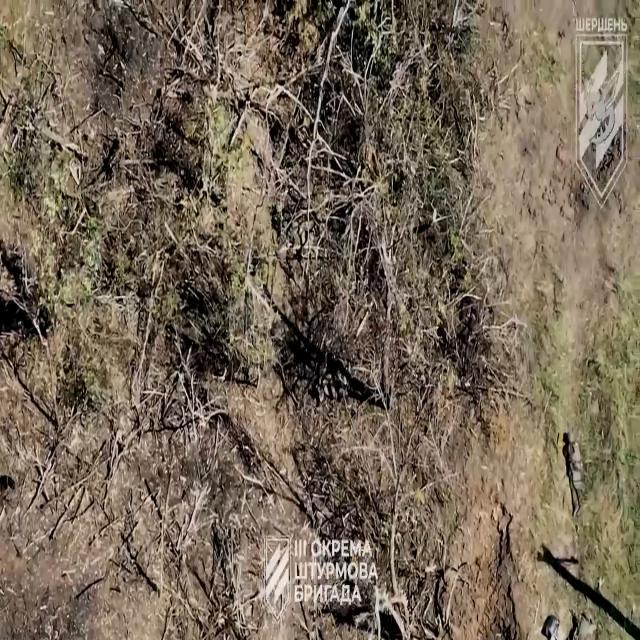MIL_Pax: (562, 431, 584, 514)
